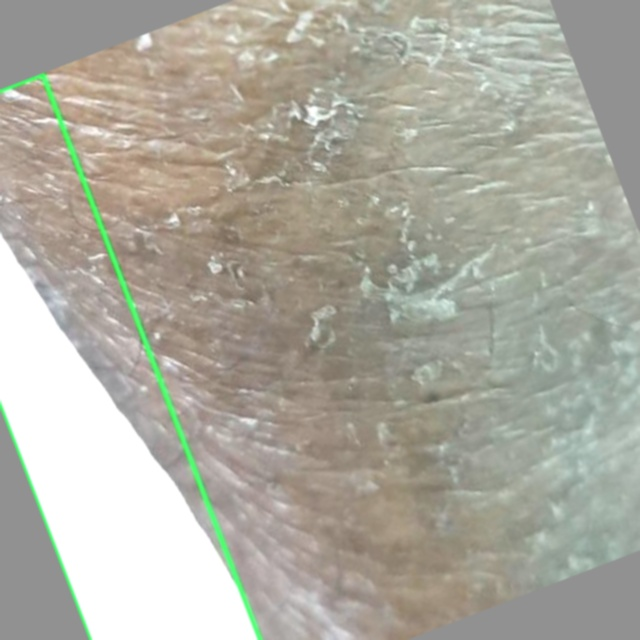Tinea Corporis: (0, 74, 259, 639)
